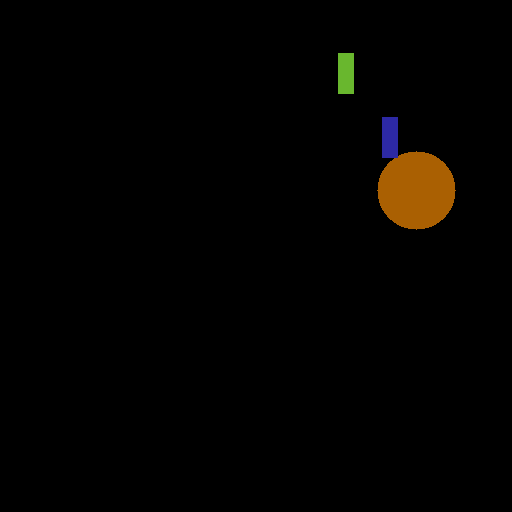circle: (373, 152, 459, 232)
up_rect: (334, 49, 356, 95), (379, 112, 401, 158)
